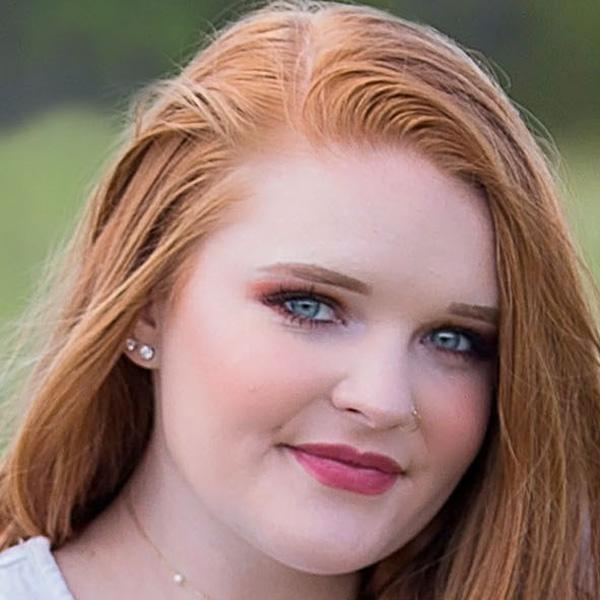Eyes: (254, 279, 354, 340), (416, 313, 492, 369)
